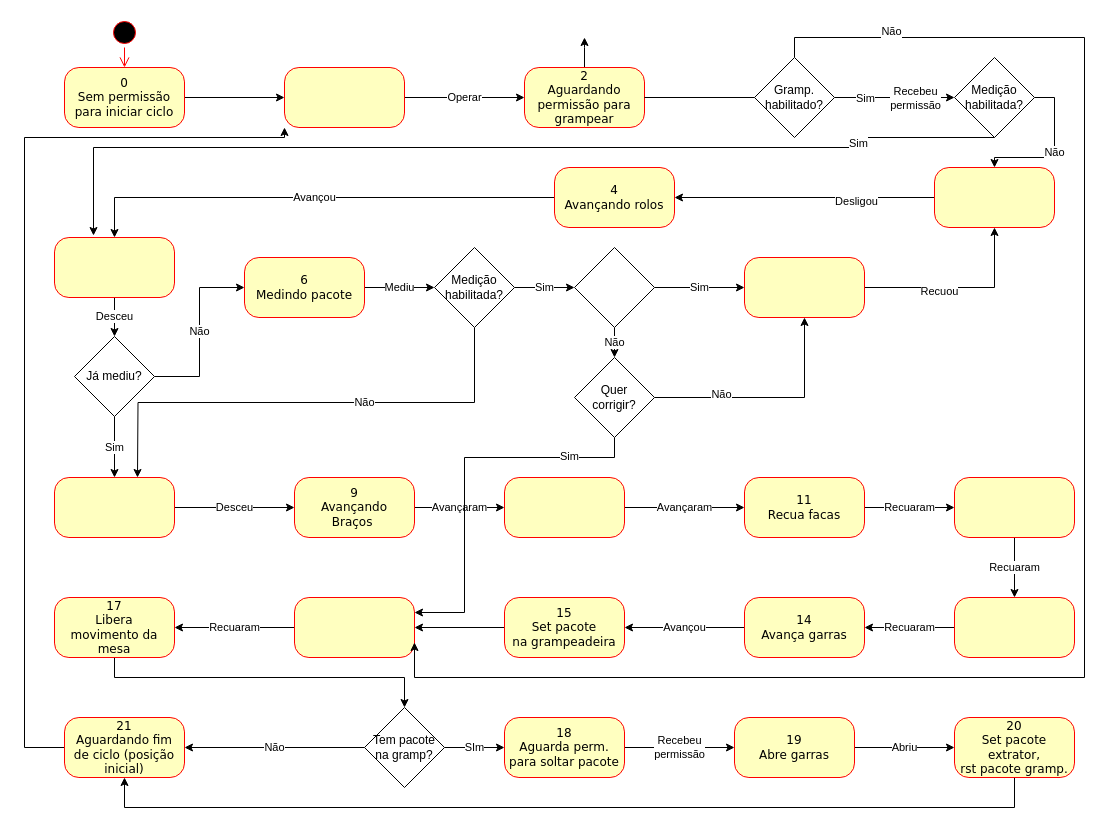
Image size: 1110x833. Some labels were removed from this diagram. Each missing label, with the box of its shape:
1 Standby (posição inicial): (284, 66, 404, 128)
10 Avança facas: (504, 476, 624, 538)
12 Recua rolos: (954, 476, 1074, 538)
13 Recua braços: (954, 596, 1074, 658)
16 Recua rolagem e compactação: (294, 596, 414, 658)
3 Desliga braços (desabilitado): (934, 166, 1054, 228)
5 Descendo compactação: (54, 236, 174, 298)
7 Recua para posição intermed.: (744, 256, 864, 318)
8 Descendo rolagem (desl. braços): (54, 476, 174, 538)
Pacote aprovado?: (574, 246, 654, 328)
